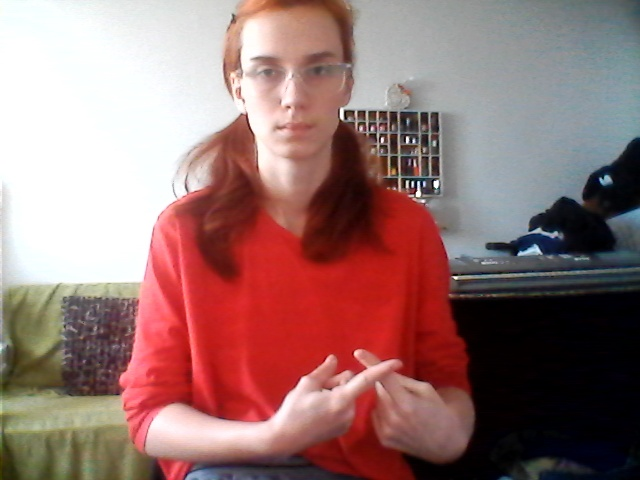x: (253, 333, 466, 470)
